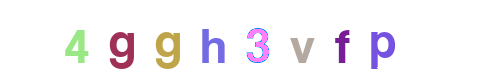3: (219, 0, 299, 80)
4: (37, 0, 117, 80)
F: (258, 0, 338, 80)
G: (82, 0, 162, 80), (128, 0, 208, 80)
H: (201, 0, 281, 80)
P: (302, 0, 382, 80)
V: (225, 0, 305, 80)
